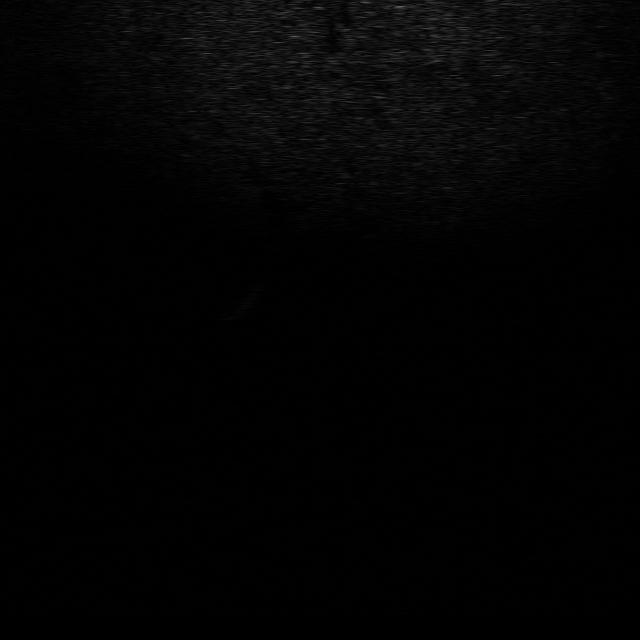human body: (225, 266, 271, 321)
